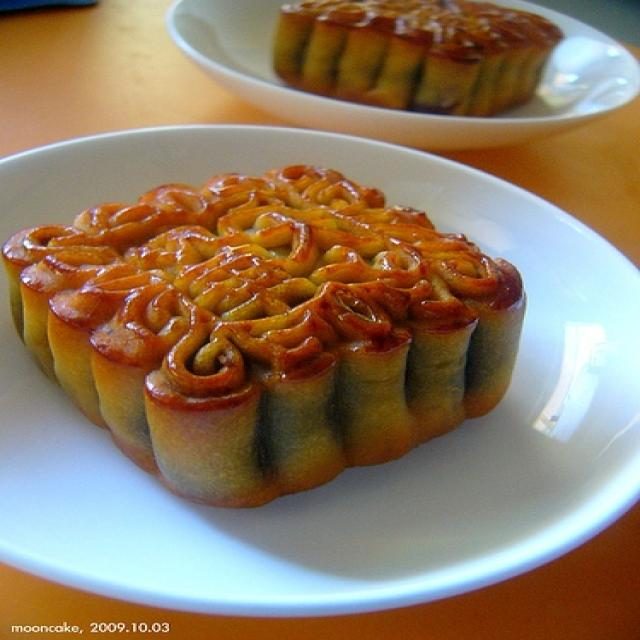蛋糕甜品: (7, 60, 623, 584)
